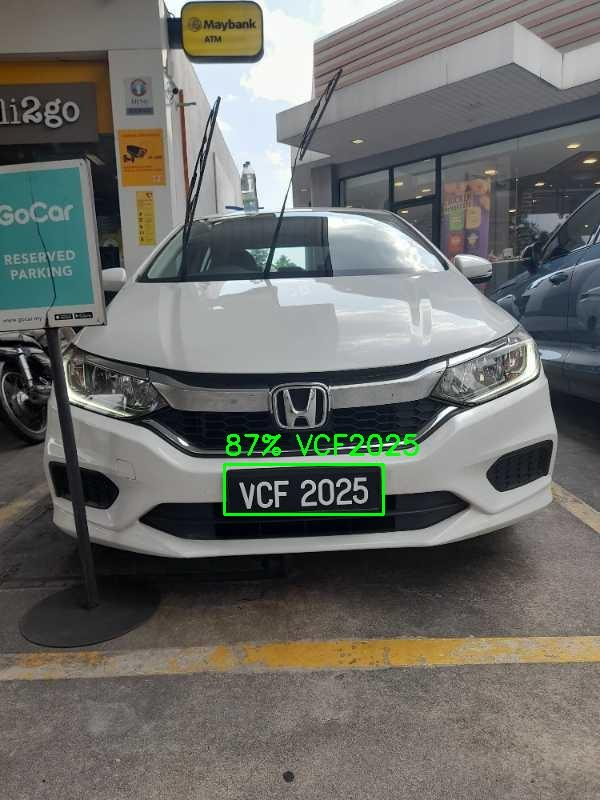license_plate: (223, 465, 382, 515)
